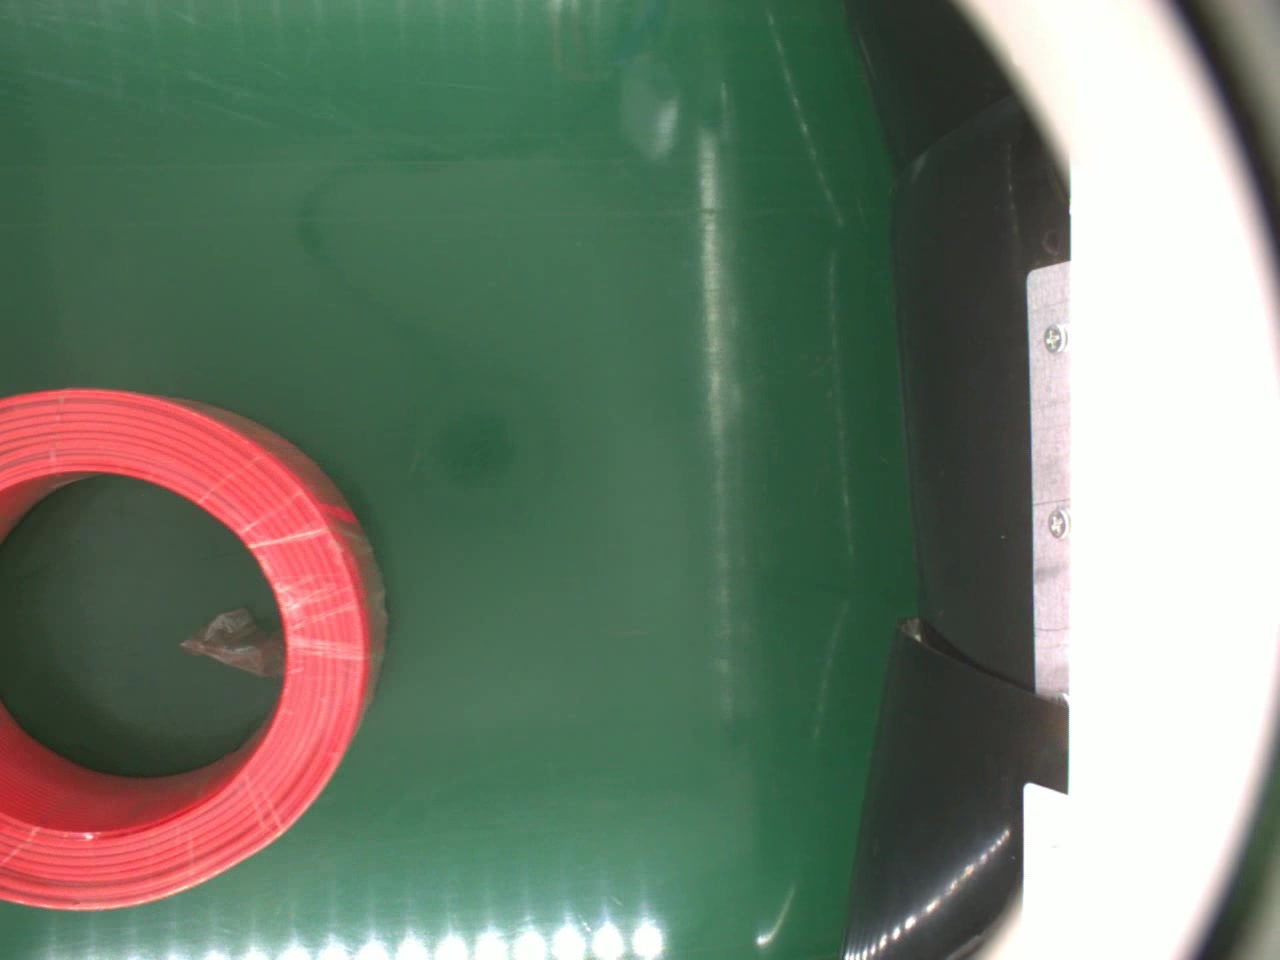red: (0, 383, 386, 914)
